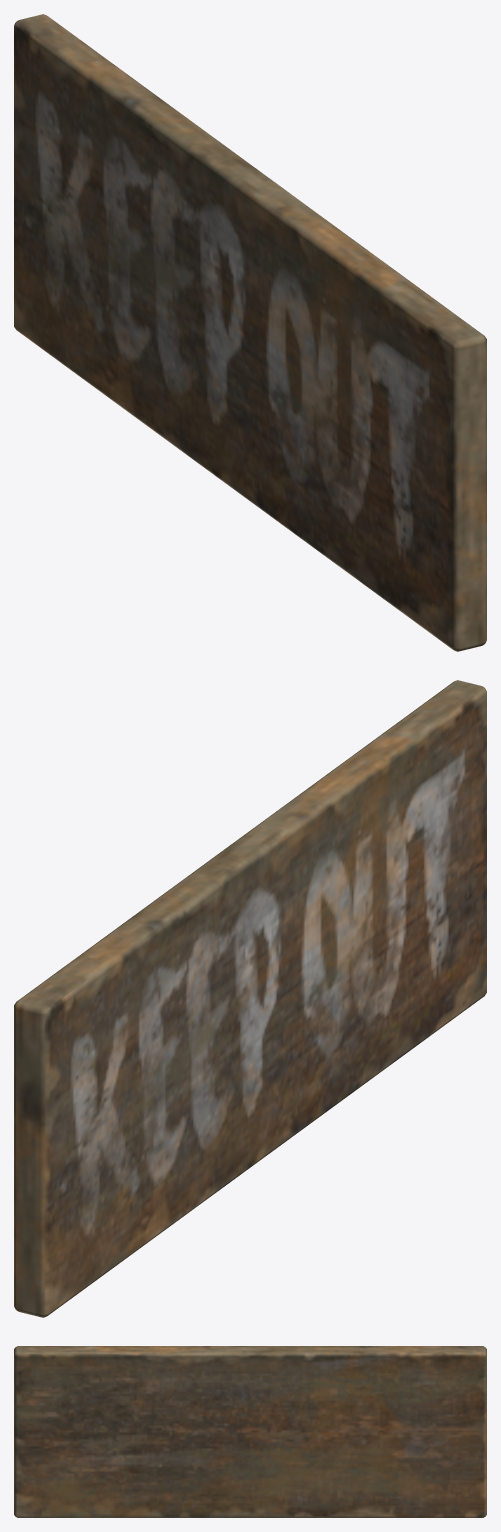
File: SM_Sign02.fbx
3 renders of one model, top to bottom at view 1: azimuth 30°, elevation 25°; view 2: azimuth 150°, elevation 25°; view 3: azimuth 270°, elevation 25°, orthographic. The views are drawn at different scales.
Parts seen in each view (by area): view 1: SM_Sign02_LOD0; view 2: SM_Sign02_LOD0; view 3: SM_Sign02_LOD0.
Boxes of the visible parts, left/top/right/bottom form: SM_Sign02_LOD0: left=14, top=14, right=486, bottom=651; SM_Sign02_LOD0: left=14, top=680, right=486, bottom=1317; SM_Sign02_LOD0: left=14, top=1346, right=486, bottom=1517.
Bounding box in the file's own units: 3.91 × 85.18 × 32.95.
Materials: 1 (1 with a texture image).
